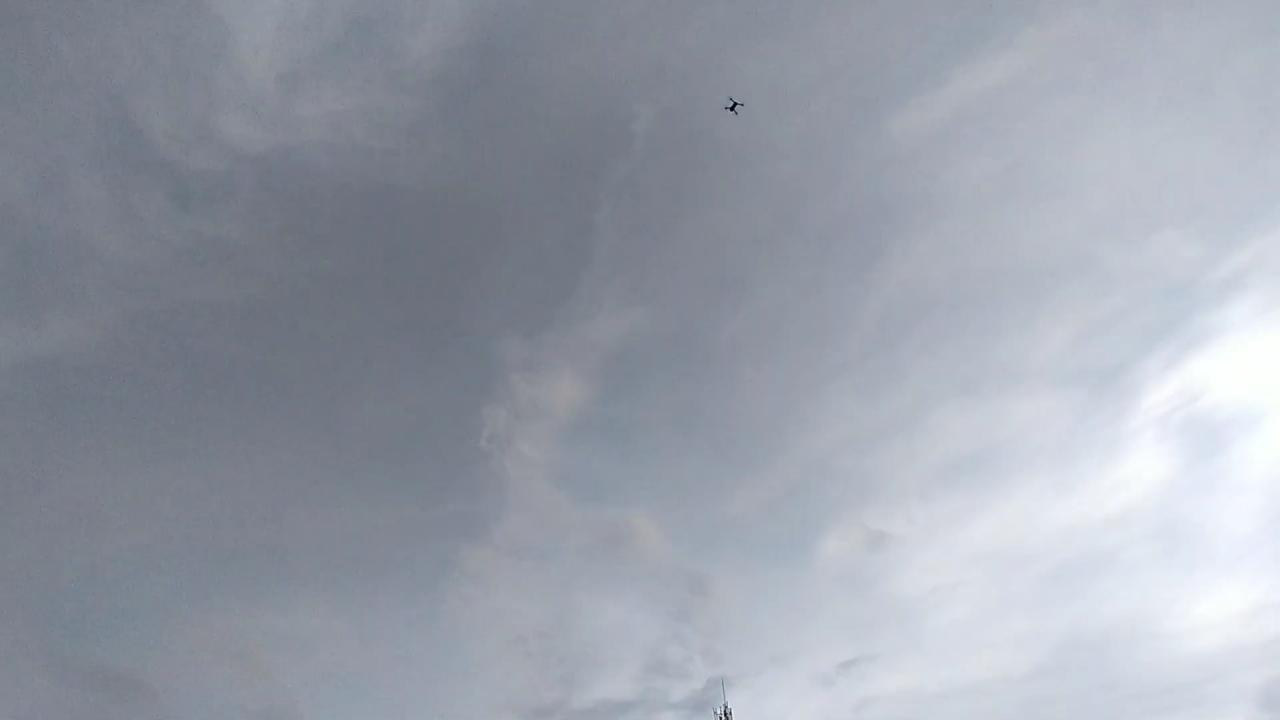Drone: (714, 90, 754, 126)
